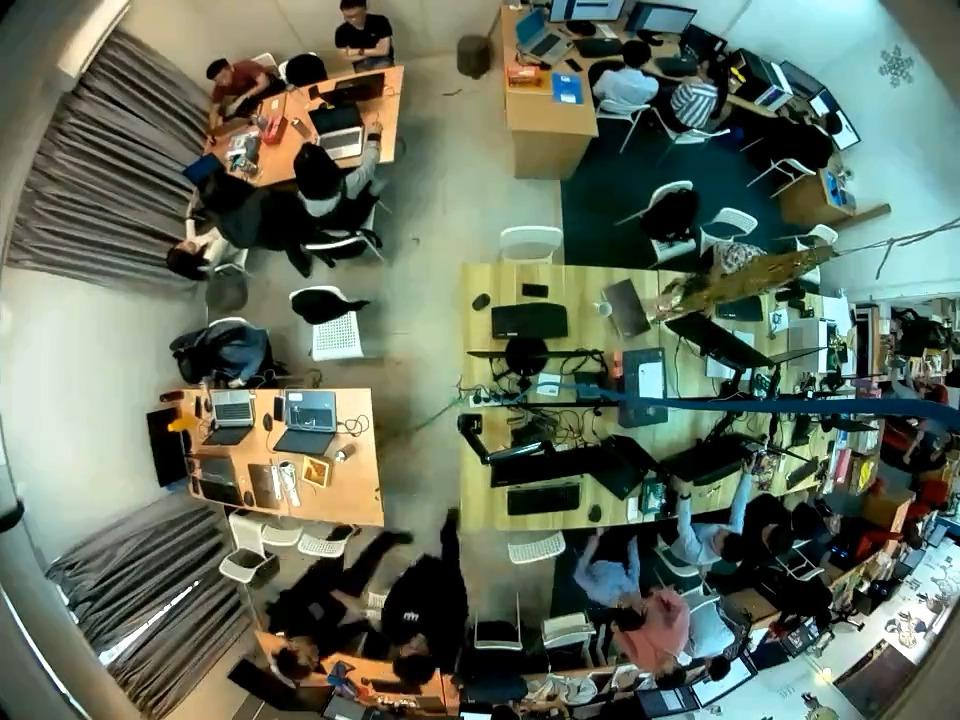name-tag: (400, 611, 422, 628)
